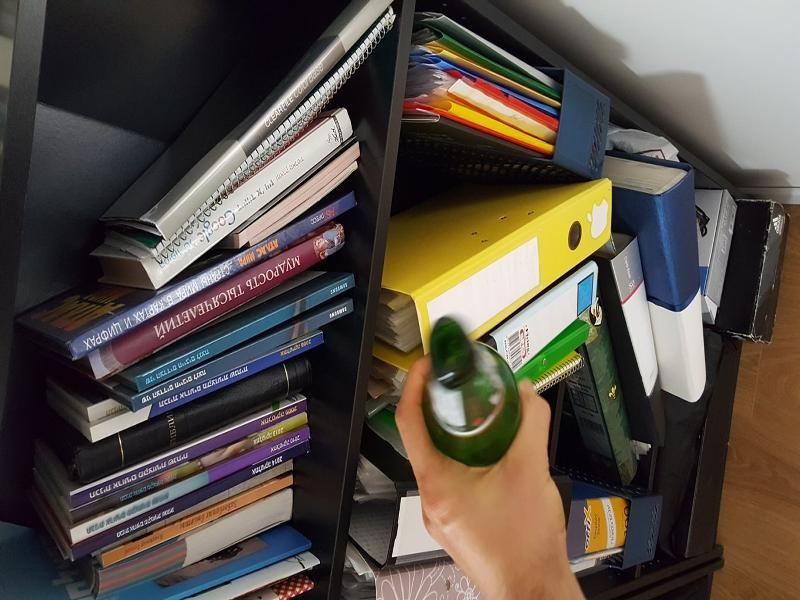Beer: (423, 317, 521, 466)
